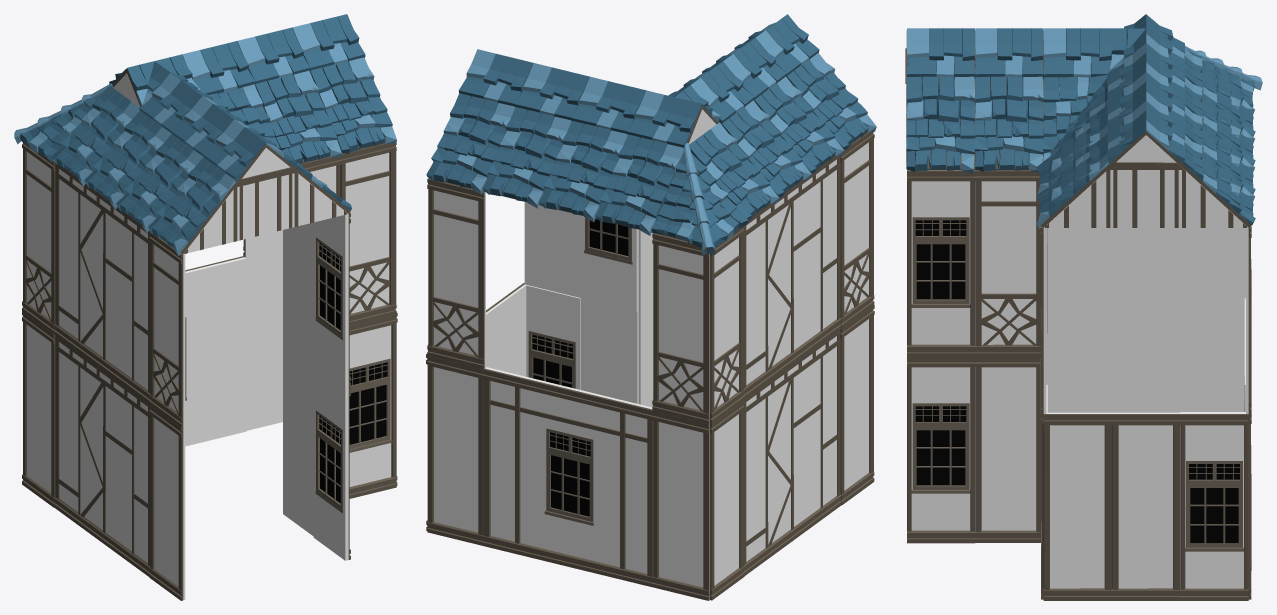
The model's file is House_12_parts.fbx.
3 views of the same model, side by side, from view 1: azimuth 30°, elevation 25°; view 2: azimuth 150°, elevation 25°; view 3: azimuth 270°, elevation 25° (orthographic). The views are drawn at different scales.
Visible parts, largest first — view 1: WALL_05_2, WALL_05_3, WINDOW_03_2, WALL_04_4, WINDOW_04_4, WINDOW_04_3, WALL_03_7, WALL_04_8, WALL_03_10, WINDOW_04_6, WALL_03_9, WALL_04_7 (+25 smaller); view 2: WINDOW_03_2, WALL_05_2, WALL_05_3, WALL_04_5, WALL_03_8, WALL_04_6, WALL_03_7, WALL_03_9, WALL_04_7, WALL_04_8, WALL_03_10, ROOF_corner_out_2 (+23 smaller); view 3: WALL_05_2, WALL_03_6, WINDOW_04_5, WALL_03_5, WINDOW_04_6, WINDOW_04_3, WALL_03_3, WALL_04_3, WALL_03_9, ROOF_base_3, ROOF_base_4, WALL_05_3 (+28 smaller).
Boxes of the visible parts, left/top/right/bottom form: WALL_05_2: left=54, top=335, right=150, bottom=576; WALL_05_3: left=54, top=162, right=150, bottom=403; WINDOW_03_2: left=185, top=256, right=246, bottom=446; WALL_04_4: left=340, top=143, right=396, bottom=325; WINDOW_04_4: left=349, top=314, right=396, bottom=498; WINDOW_04_3: left=313, top=365, right=350, bottom=560; WALL_03_7: left=246, top=249, right=282, bottom=430; WALL_04_8: left=149, top=231, right=185, bottom=427; WALL_03_10: left=149, top=405, right=185, bottom=600; WINDOW_04_6: left=313, top=213, right=350, bottom=387; WALL_03_9: left=22, top=311, right=55, bottom=507; WALL_04_7: left=22, top=141, right=55, bottom=334; WINDOW_03_2: left=483, top=367, right=653, bottom=586; WALL_05_2: left=743, top=330, right=841, bottom=575; WALL_05_3: left=743, top=155, right=841, bottom=399; WALL_04_5: left=427, top=178, right=485, bottom=369; WALL_03_8: left=652, top=410, right=709, bottom=600; WALL_04_6: left=652, top=233, right=709, bottom=424; WALL_03_7: left=427, top=356, right=484, bottom=545; WALL_03_9: left=709, top=400, right=744, bottom=600; WALL_04_7: left=709, top=226, right=744, bottom=423; WALL_04_8: left=840, top=131, right=874, bottom=328; WALL_03_10: left=840, top=305, right=874, bottom=505; ROOF_corner_out_2: left=651, top=143, right=748, bottom=255; WALL_05_2: left=1047, top=270, right=1180, bottom=412; WALL_03_6: left=1112, top=412, right=1180, bottom=600; WINDOW_04_5: left=1180, top=412, right=1248, bottom=600; WALL_03_5: left=1043, top=412, right=1111, bottom=600; WINDOW_04_6: left=907, top=170, right=975, bottom=357; WINDOW_04_3: left=907, top=357, right=975, bottom=543; WALL_03_3: left=975, top=357, right=1041, bottom=542; WALL_04_3: left=975, top=170, right=1041, bottom=357; WALL_03_9: left=1180, top=270, right=1245, bottom=411; ROOF_base_3: left=906, top=76, right=975, bottom=173; ROOF_base_4: left=974, top=75, right=1043, bottom=172; WALL_05_3: left=1048, top=228, right=1180, bottom=270.
Bounding box in the file's own units: 518 × 759 × 523.
